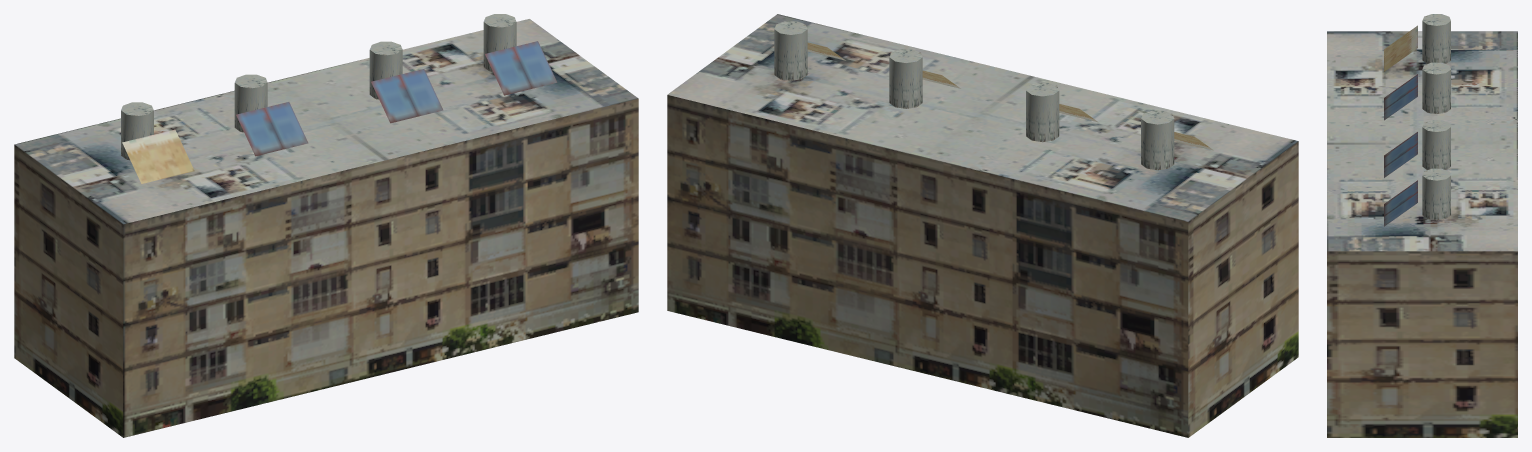
Rendered from 4b_floor.gltf.
The picture shows the model from 3 angles, left to right: view 1: azimuth 30°, elevation 25°; view 2: azimuth 150°, elevation 25°; view 3: azimuth 270°, elevation 25°; orthographic projection. The views are drawn at different scales.
Parts seen in each view (by area): view 1: node1, node2; view 2: node1, node2; view 3: node1, node2.
Part boxes in pixels (<box>): node1: <box>14,19,638,437</box>; node2: <box>121,14,557,160</box>; node1: <box>667,14,1298,437</box>; node2: <box>774,21,1174,170</box>; node1: <box>1327,25,1517,437</box>; node2: <box>1384,14,1450,226</box>.
Size of the model in its own units: 35.63 by 17.46 by 13.07.
